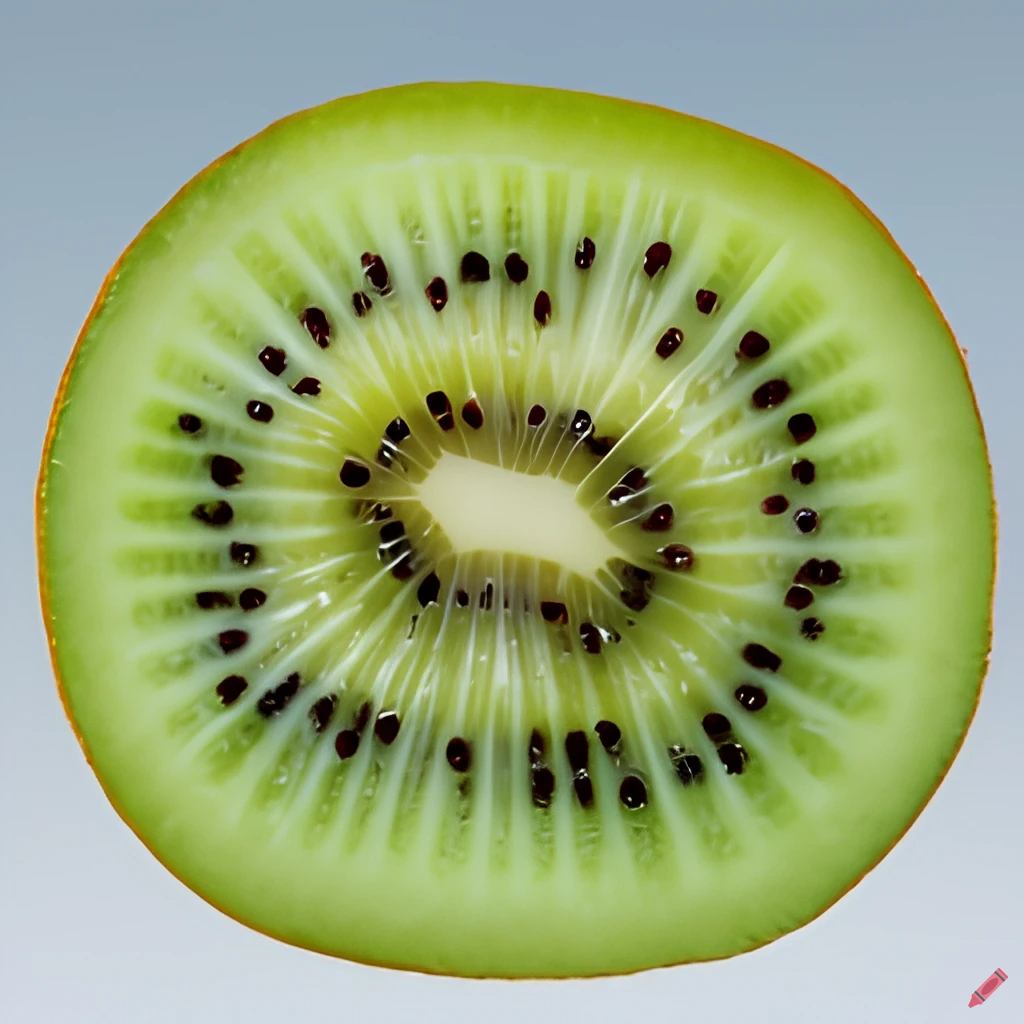Kiwi: (15, 66, 1008, 972)
